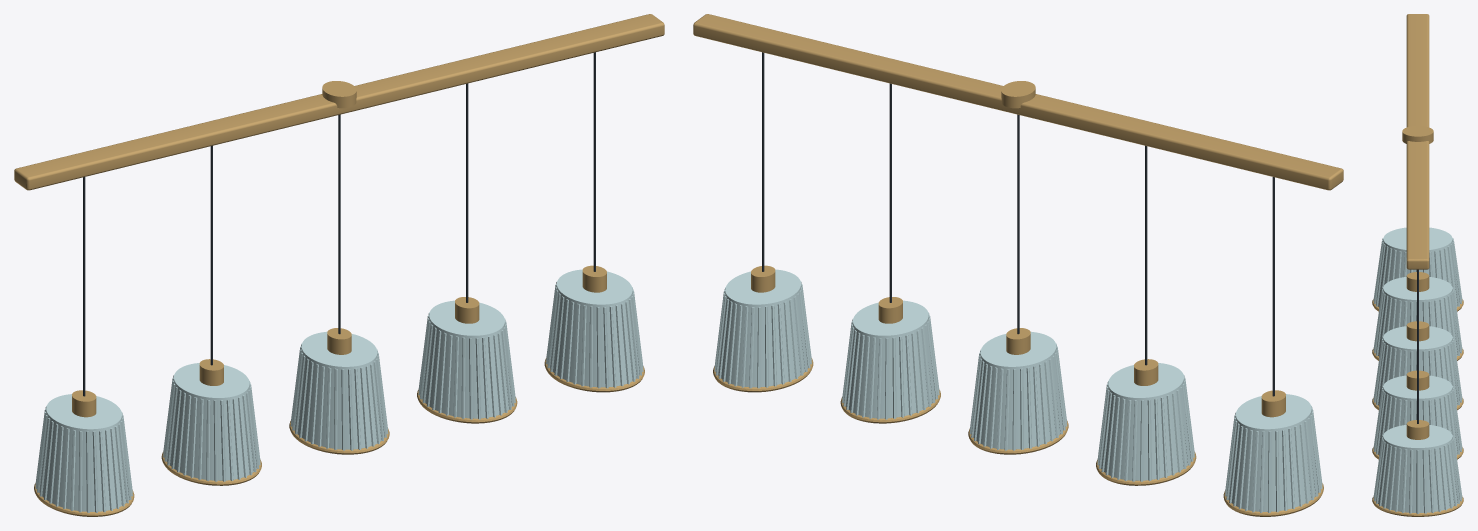
File: kitchen-light-island.glb
The picture shows the model from 3 angles, left to right: view 1: azimuth 30°, elevation 25°; view 2: azimuth 150°, elevation 25°; view 3: azimuth 270°, elevation 25°; orthographic projection. The views are drawn at different scales.
Visible parts, largest first — view 1: catalog_surface_UVMap, catalog_surface_RealismUV; view 2: catalog_surface_UVMap, catalog_surface_RealismUV; view 3: catalog_surface_UVMap, catalog_surface_RealismUV.
Boxes of the visible parts, left/top/right/bottom form: catalog_surface_UVMap: left=35, top=269, right=643, bottom=512; catalog_surface_RealismUV: left=14, top=14, right=664, bottom=516; catalog_surface_UVMap: left=714, top=269, right=1322, bottom=512; catalog_surface_RealismUV: left=693, top=14, right=1343, bottom=516; catalog_surface_UVMap: left=1373, top=227, right=1462, bottom=513; catalog_surface_RealismUV: left=1372, top=14, right=1463, bottom=516.
Size of the model in its own units: 1.4 by 0.72 by 0.22.
